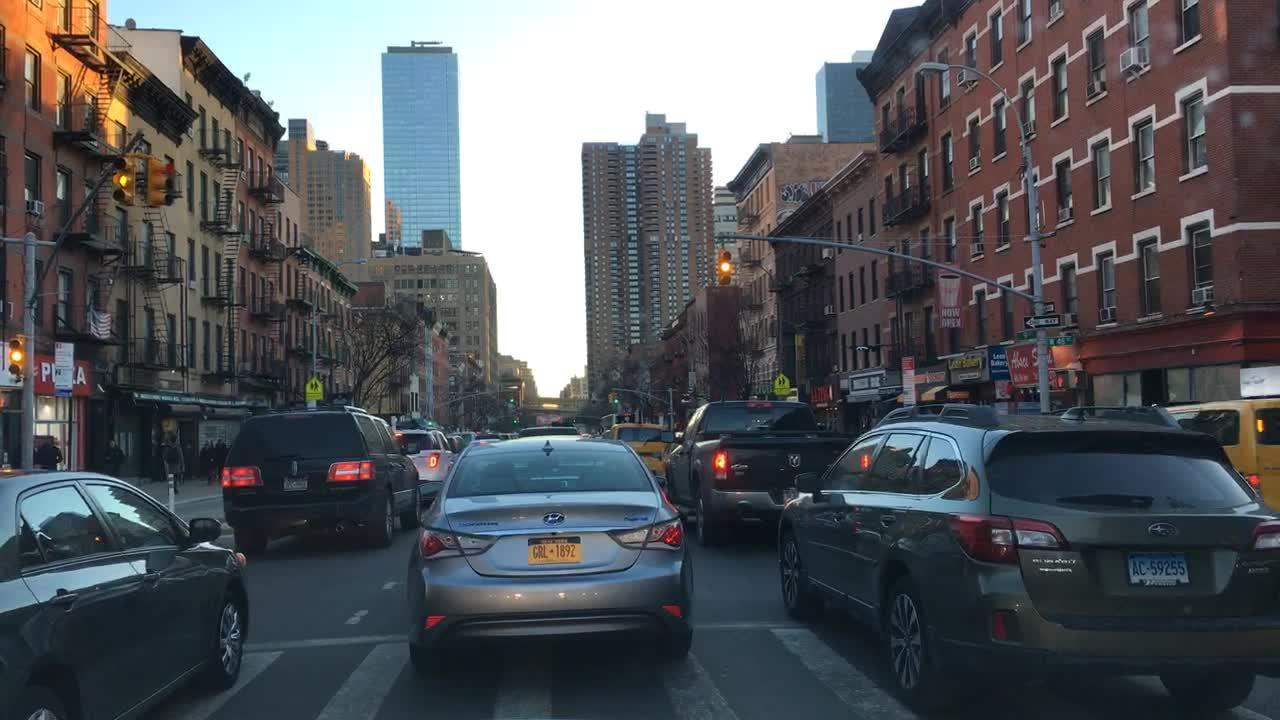Hyundai: (540, 510, 571, 530)
lincoln: (286, 458, 304, 479)
ram: (786, 452, 806, 470)
subaru: (1147, 522, 1179, 541)
